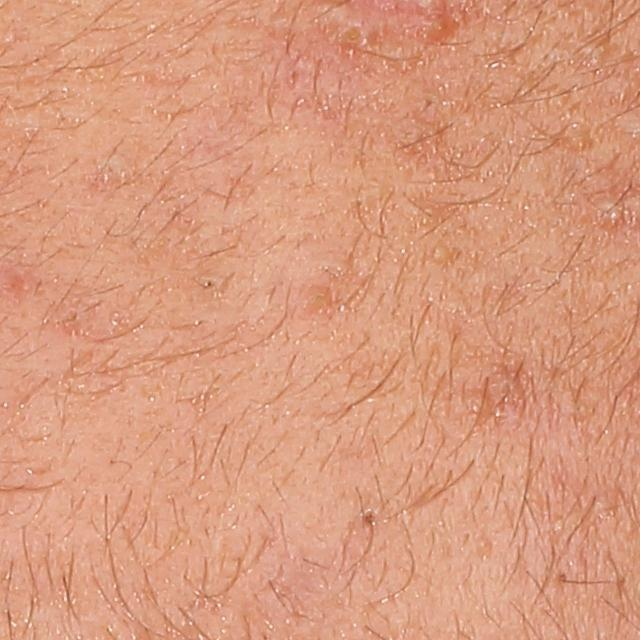comedo: (353, 503, 383, 536), (431, 242, 456, 267)
papule: (329, 2, 385, 50), (402, 3, 455, 45)
